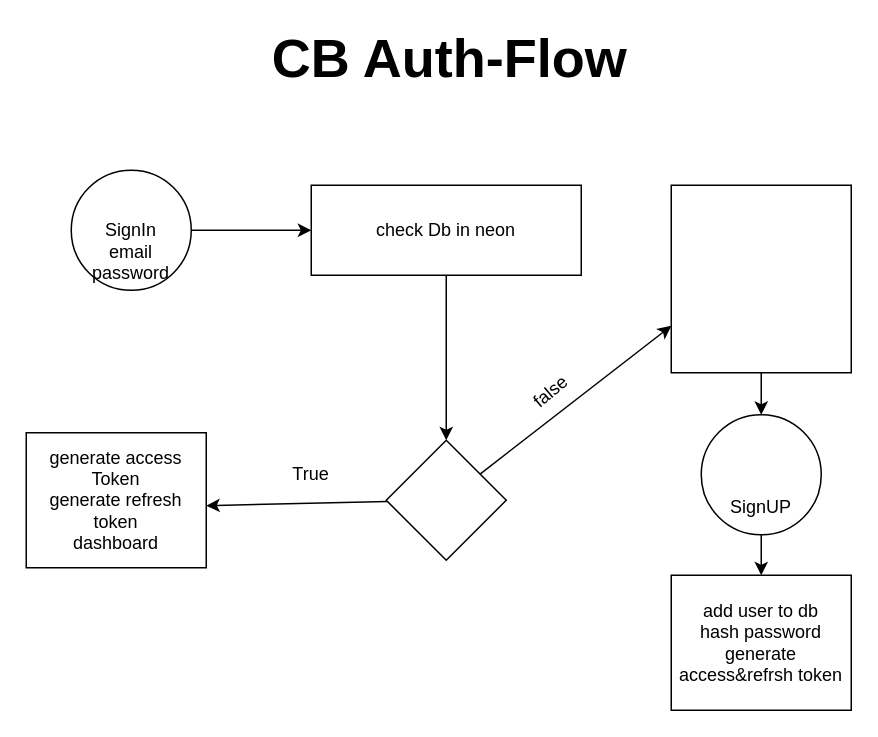
The diagram is 878 pixels wide and 737 high, and some of its shapes have lost their labels. The box of each missing label's shape, as (x1, y1, x2, y2) in pixels:
if User: (385, 439, 506, 560)
user not font naviagte to signUp page name email passowrd: (670, 184, 851, 373)
